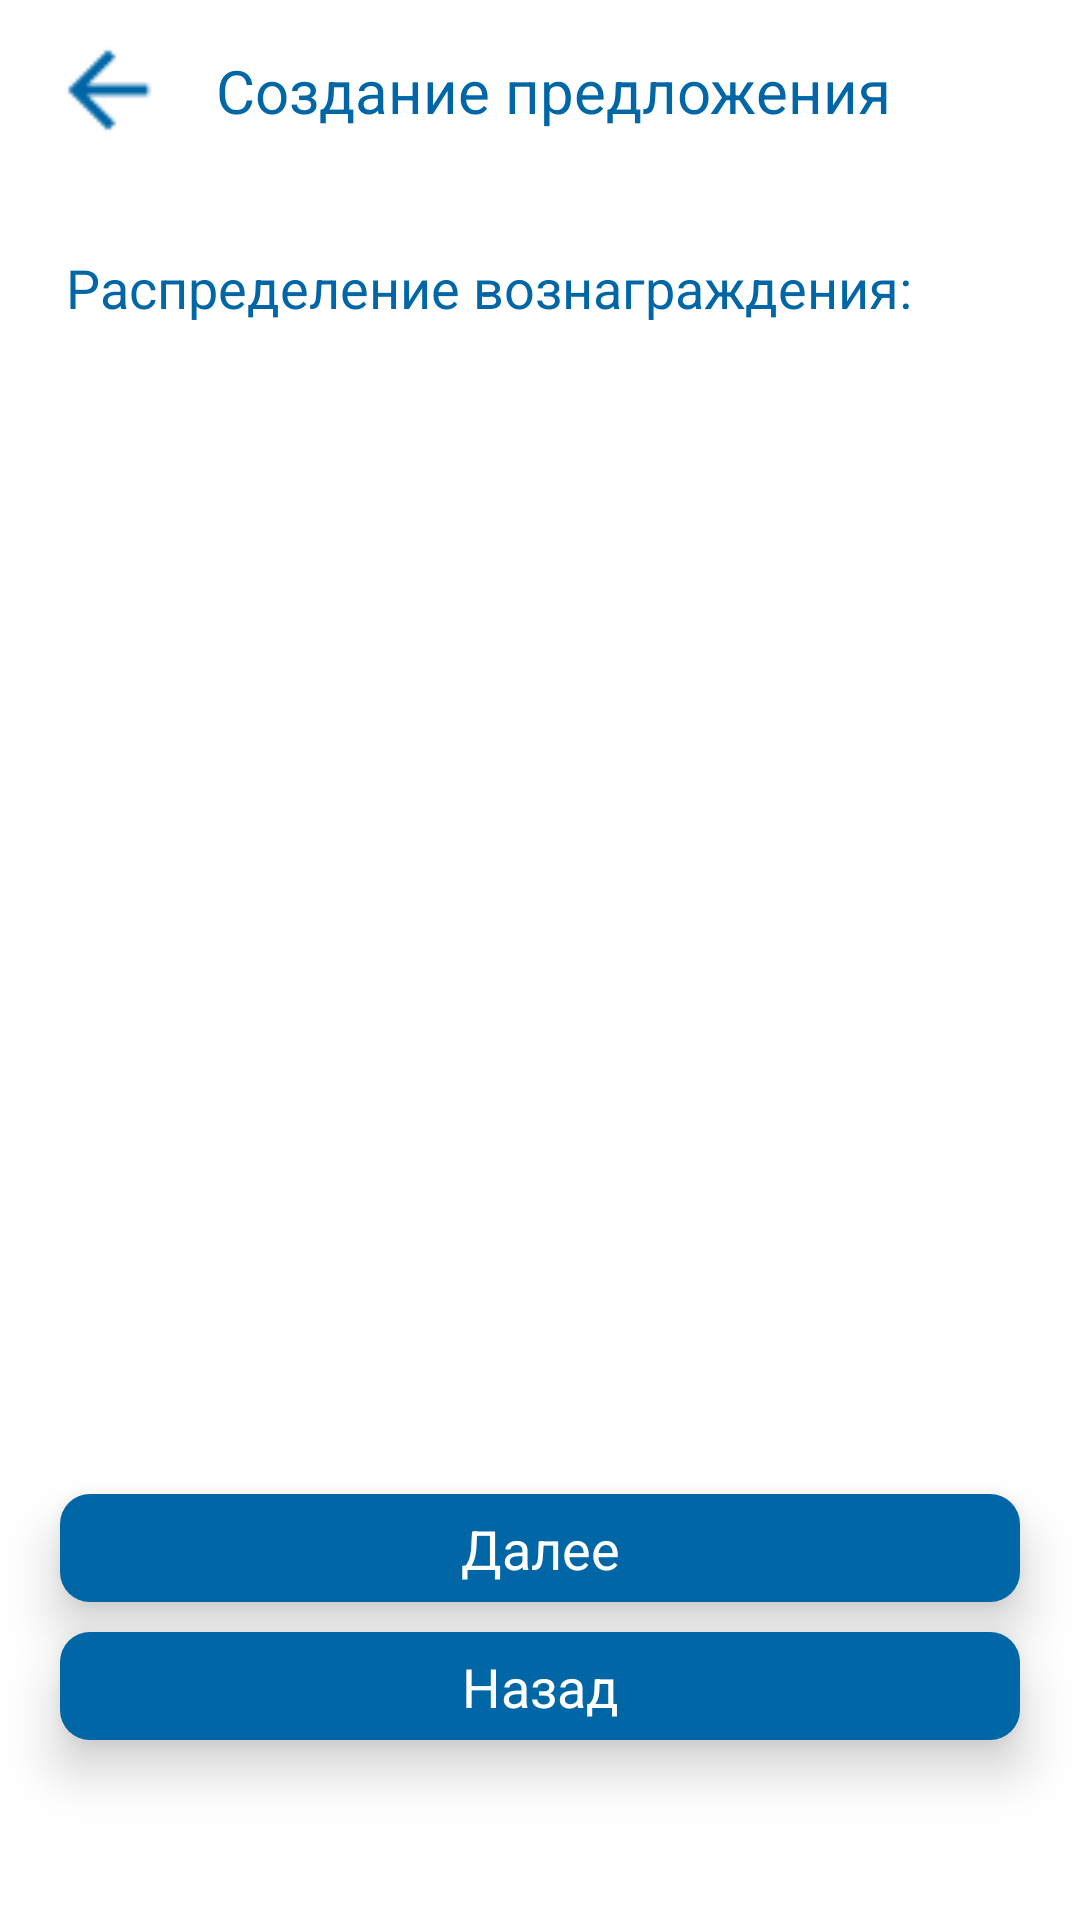

Named icons in this screenshot (1080 × 1920) and their bounding boxes, (x1, y1, x2, y2):
arrow back: (68, 50, 151, 130)
